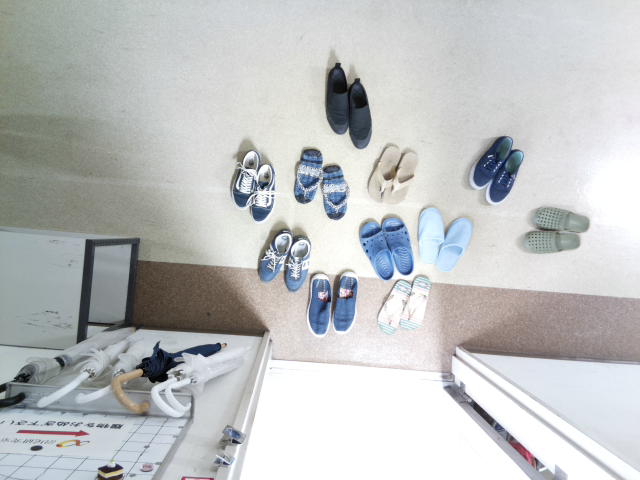Copy of Copy of Copy of Copy of Copy of Copy of Copy of Copy of Copy of Copy of: (433, 213, 480, 289), (467, 129, 519, 194), (373, 209, 418, 282), (316, 52, 353, 139), (347, 215, 391, 285), (383, 144, 425, 216), (482, 143, 530, 206), (511, 224, 588, 263), (527, 199, 604, 238), (342, 72, 378, 151), (413, 197, 450, 273), (366, 136, 402, 210)
Copy of Copy of Copy of Copy of Copy of Copy of Copy of Copy of Copy of shoe: (397, 271, 435, 336)
Copy of Copy of Copy of Copy of Copy of Copy of Copy of Copy of shoe: (372, 274, 413, 343)
Copy of Copy of Copy of Copy of Copy of Copy of Copy of shoe: (330, 263, 366, 340)
Copy of Copy of Copy of Copy of Copy of Copy of shoe: (302, 266, 336, 341)
Copy of Copy of Copy of Copy of Copy of shoe: (282, 230, 318, 295)
Copy of Copy of Copy of Copy of shoe: (252, 223, 295, 288)
Copy of Copy of Copy of shoe: (316, 159, 353, 226)
Copy of Copy of shoe: (287, 141, 327, 208)
Copy of shoe: (245, 157, 279, 221)
shoe: (224, 144, 263, 212)
